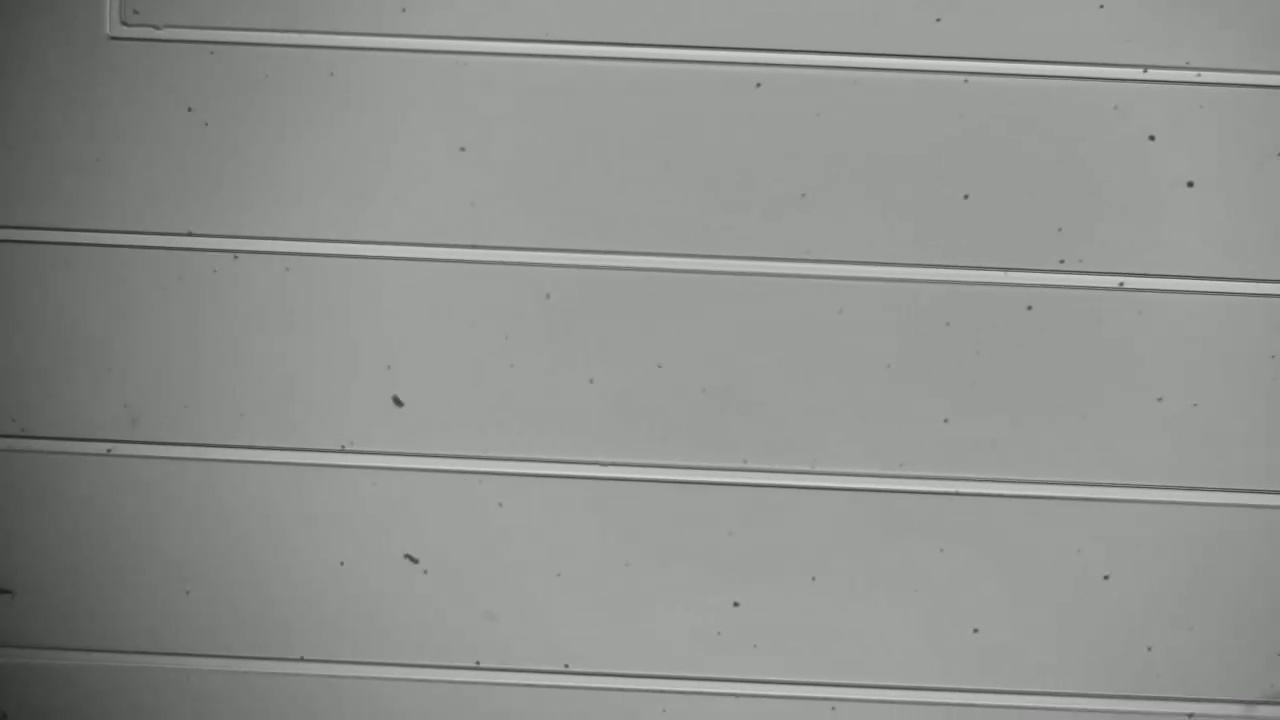edge_bite: (144, 17, 173, 51)
